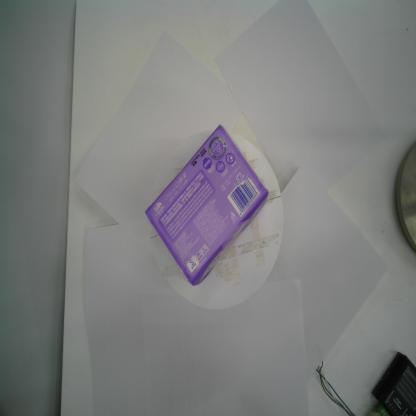Tissue: (144, 121, 270, 288)
